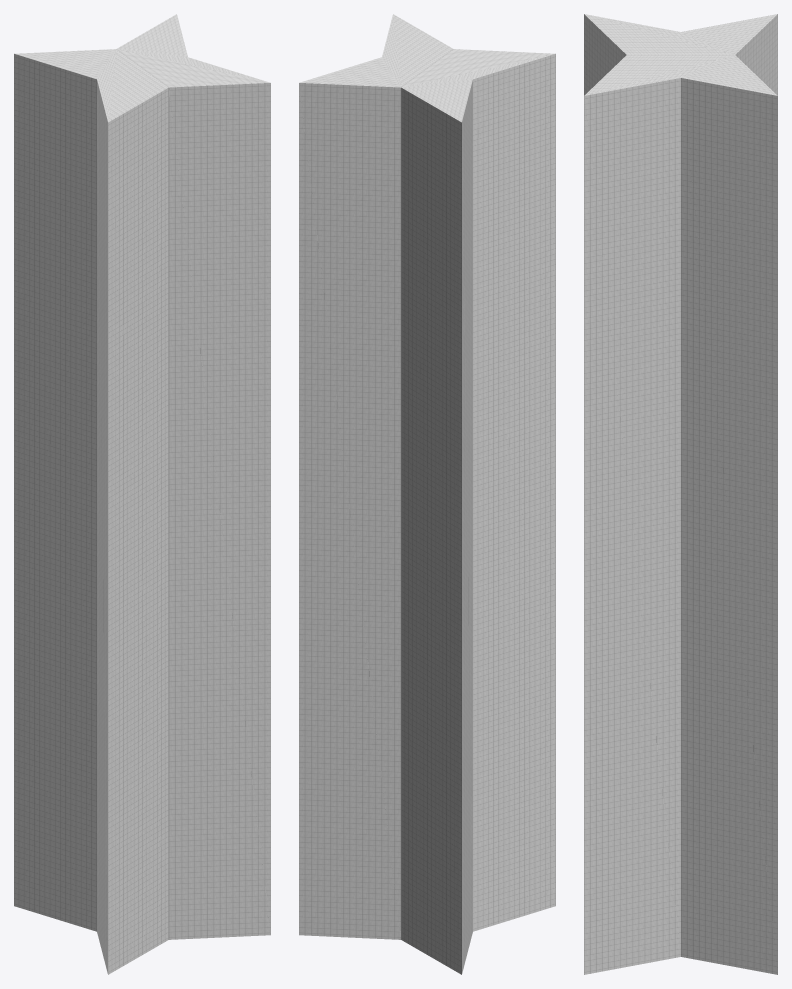
The model's file is StarCol.fbx.
3 views of the same model, side by side, from view 1: azimuth 30°, elevation 25°; view 2: azimuth 150°, elevation 25°; view 3: azimuth 270°, elevation 25° (orthographic). The views are drawn at different scales.
Visible parts, largest first — view 1: StarCol; view 2: StarCol; view 3: StarCol.
Part boxes in pixels (x1,y1,x2,y2): StarCol: (14, 14, 270, 974); StarCol: (299, 14, 555, 974); StarCol: (584, 14, 777, 974).
Size of what is drawn, in the model's own units: 10 by 10 by 50.
